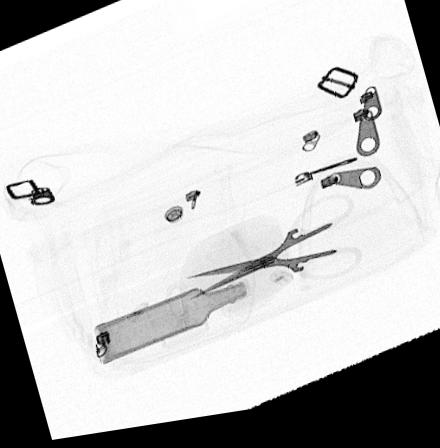Scissors: (183, 202, 370, 309)
